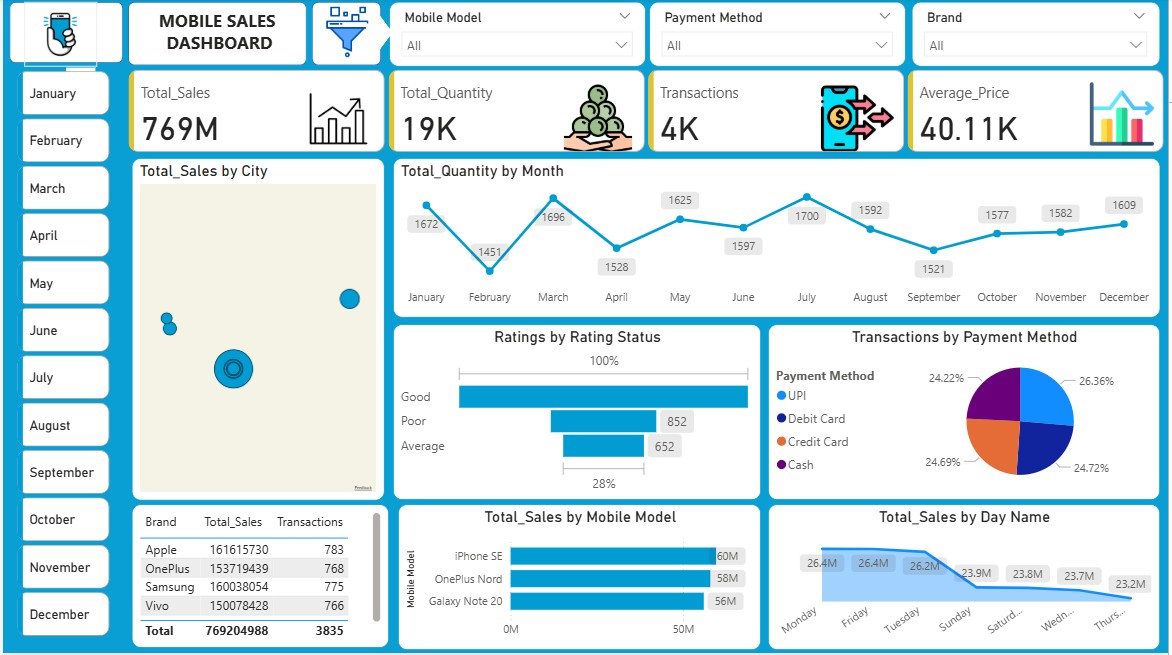

The page's visual inventory and layout, read from the dashboard file:
{"tool":"powerbi","page":{"name":"Dashboard","canvas":[1280,720],"ordinal":0},"visuals":[{"type":"shape","box":[7.5,3.8,125,67.5],"z":0},{"type":"image","box":[23.8,3.8,78.8,71.2],"z":1000},{"type":"advancedSlicerVisual","fields":{"Values":["Custom_Calendar.Date.Variation.Date Hierarchy.Month"]},"box":[11,75.5,111.1,638.1],"z":4000},{"type":"cardVisual","fields":{"Data":["Sales_Data.Total_Sales","Sales_Data.Total_Quantity","Sales_Data.Transactions","Sales_Data.Average_Price"]},"box":[132.5,73.8,1147.5,100],"z":5000},{"type":"slicer","fields":{"Values":["Sales_Data.Mobile Model"]},"box":[423.8,3.8,281.2,71.2],"z":6000},{"type":"slicer","fields":{"Values":["Sales_Data.Payment Method"]},"box":[710,3.8,281.2,71.2],"z":7000},{"type":"slicer","fields":{"Values":["Sales_Data.Brand"]},"box":[997.5,3.8,272.5,71.2],"z":8000},{"type":"shape","box":[338.8,3.8,76.2,70],"z":9000},{"type":"image","box":[337.5,3.8,81.2,66.2],"z":10000},{"type":"shape","box":[397.5,17.5,30,40],"z":11000},{"type":"shape","box":[137.5,3.8,196.2,70],"z":12000},{"type":"textbox","box":[156.2,6.2,162.5,63.8],"z":13000},{"type":"azureMap","fields":{"Category":["Sales_Data.City"],"Size":["Sales_Data.Total_Sales"]},"box":[141.2,175,277.5,376.2],"z":14000},{"type":"lineChart","fields":{"Y":["Sales_Data.Total_Quantity"],"Category":["Custom_Calendar.Date.Variation.Date Hierarchy.Month"]},"box":[427.5,175,842.5,175],"z":15000},{"type":"funnel","title":"Ratings by Rating Status","fields":{"Y":["CountNonNull(Sales_Data.Customer Ratings)"],"Category":["Sales_Data.Rating Status"]},"box":[427.5,358.8,403.8,192.5],"z":16000},{"type":"pieChart","fields":{"Y":["Sales_Data.Transactions"],"Category":["Sales_Data.Payment Method"]},"box":[840,358.8,430,192.5],"z":17000},{"type":"clusteredBarChart","fields":{"Y":["Sales_Data.Total_Sales"],"Category":["Sales_Data.Mobile Model"]},"box":[433.8,556.2,398.8,160],"z":18000},{"type":"areaChart","fields":{"Y":["Sales_Data.Total_Sales"],"Category":["Custom_Calendar.Day Name"]},"box":[840,556.2,430,160],"z":19000},{"type":"tableEx","fields":{"Values":["Sales_Data.Brand","Sales_Data.Total_Sales","Sales_Data.Transactions"]},"box":[141.2,556.2,282.5,157.5],"z":20000}]}

Visuals, with their boxes in screenshot pixels (x1, y1, x2, y2), scaled from the page's 1280x720 canvas onto the 1172x655 screenshot:
shape: (x1=7, y1=3, x2=121, y2=65)
image: (x1=22, y1=3, x2=94, y2=68)
advancedSlicerVisual - Custom_Calendar.Date.Variation.Date Hierarchy.Month: (x1=10, y1=69, x2=112, y2=649)
cardVisual - Sales_Data.Total_Sales x Sales_Data.Total_Quantity: (x1=121, y1=67, x2=1171, y2=158)
slicer - Sales_Data.Mobile Model: (x1=388, y1=3, x2=646, y2=68)
slicer - Sales_Data.Payment Method: (x1=650, y1=3, x2=908, y2=68)
slicer - Sales_Data.Brand: (x1=913, y1=3, x2=1163, y2=68)
shape: (x1=310, y1=3, x2=380, y2=67)
image: (x1=309, y1=3, x2=383, y2=64)
shape: (x1=364, y1=16, x2=391, y2=52)
shape: (x1=126, y1=3, x2=306, y2=67)
textbox: (x1=143, y1=6, x2=292, y2=64)
azureMap - Sales_Data.City x Sales_Data.Total_Sales: (x1=129, y1=159, x2=383, y2=501)
lineChart - Sales_Data.Total_Quantity x Custom_Calendar.Date.Variation.Date Hierarchy.Month: (x1=391, y1=159, x2=1163, y2=318)
"Ratings by Rating Status" funnel: (x1=391, y1=326, x2=761, y2=502)
pieChart - Sales_Data.Transactions x Sales_Data.Payment Method: (x1=769, y1=326, x2=1163, y2=502)
clusteredBarChart - Sales_Data.Total_Sales x Sales_Data.Mobile Model: (x1=397, y1=506, x2=762, y2=652)
areaChart - Sales_Data.Total_Sales x Custom_Calendar.Day Name: (x1=769, y1=506, x2=1163, y2=652)
tableEx - Sales_Data.Brand x Sales_Data.Total_Sales: (x1=129, y1=506, x2=388, y2=649)
